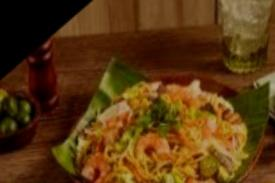pancit bihon: (75, 82, 247, 182)
